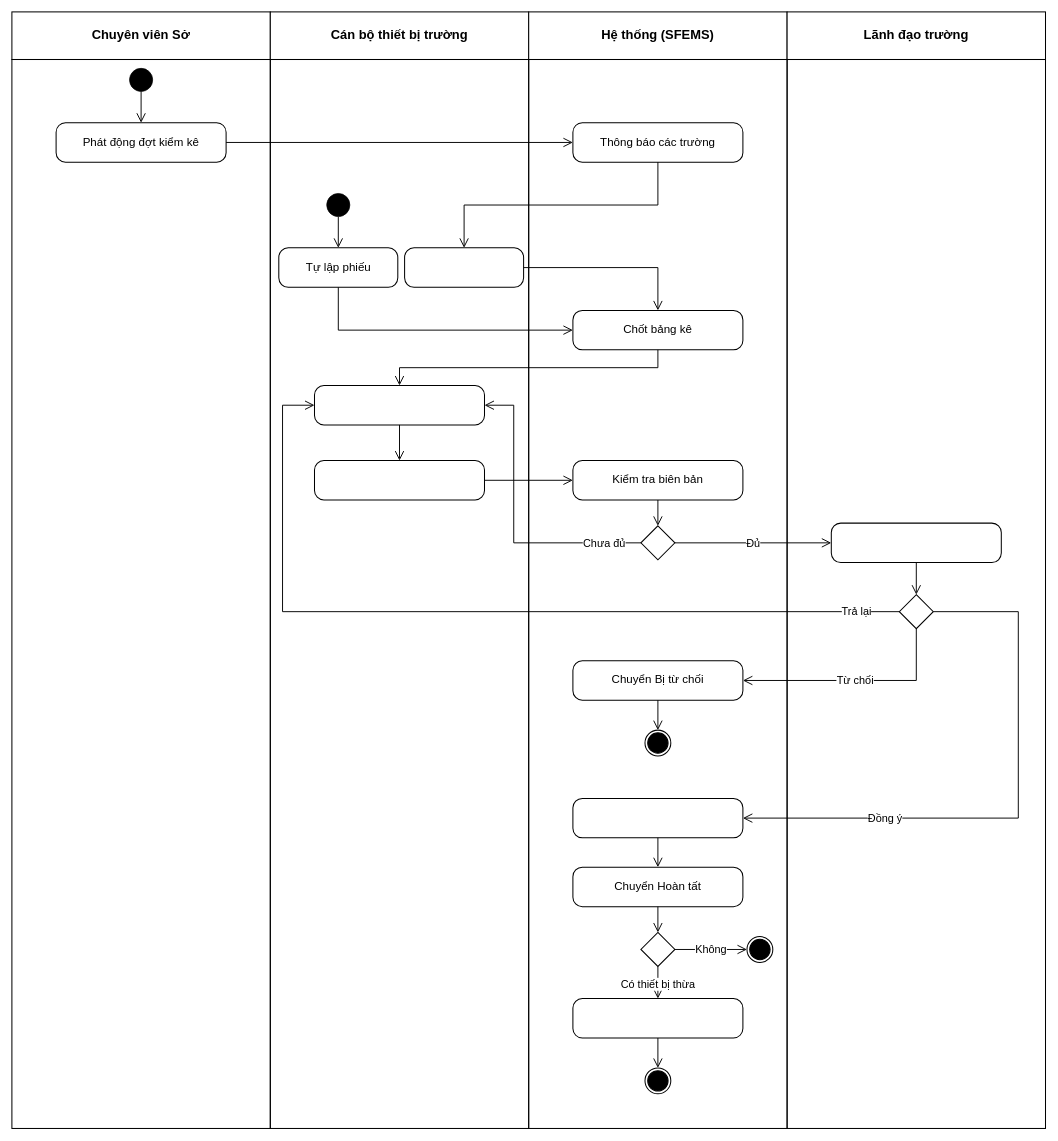
Image size: 1058x1141. Some labels were removed from this diagram. Here are the shapes that lost their labels. From the top down, the box of each, then its label:
(404, 247, 524, 288): Lập theo đợt
(314, 385, 485, 425): Ghi kết quả kiểm đếm
(314, 460, 485, 500): Trình biên bản
(830, 522, 1002, 563): Xem xét biên bản
(572, 798, 743, 838): Cập nhật sổ thiết bị
(572, 998, 743, 1038): Lập phiếu ghi tăng (BF-02)
